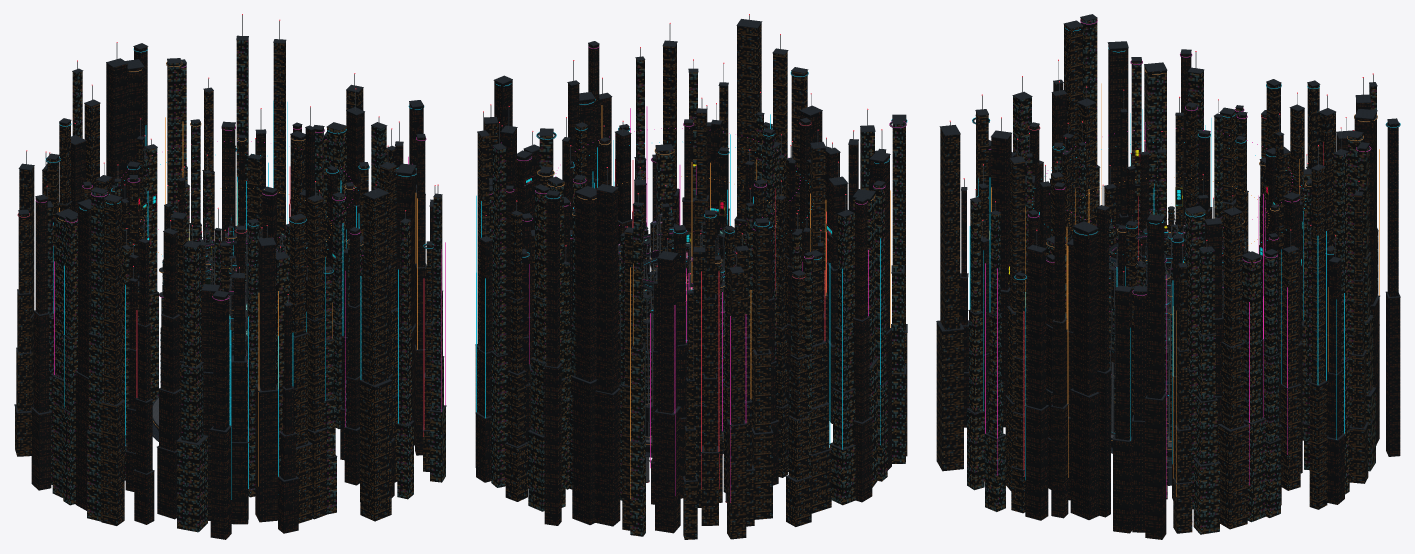
File: city_lite.glb
3 renders of one model, left to right at view 1: azimuth 30°, elevation 25°; view 2: azimuth 150°, elevation 25°; view 3: azimuth 270°, elevation 25°, orthographic. The views are drawn at different scales.
Parts seen in each view (by area): view 1: EXP_FAR_CITY, EXP_BUILDINGS; view 2: EXP_FAR_CITY, EXP_BUILDINGS, EXP_ROADS_INFRASTRUCTURE; view 3: EXP_FAR_CITY, EXP_BUILDINGS, EXP_ROADS_INFRASTRUCTURE.
Part boxes in pixels (x1=…): EXP_FAR_CITY: x1=14, y1=14, x2=446, y2=539; EXP_BUILDINGS: x1=159, y1=216, x2=285, y2=423; EXP_FAR_CITY: x1=475, y1=14, x2=907, y2=539; EXP_BUILDINGS: x1=618, y1=208, x2=746, y2=436; EXP_ROADS_INFRASTRUCTURE: x1=618, y1=231, x2=735, y2=435; EXP_FAR_CITY: x1=936, y1=14, x2=1400, y2=539; EXP_BUILDINGS: x1=1109, y1=206, x2=1246, y2=440; EXP_ROADS_INFRASTRUCTURE: x1=1109, y1=231, x2=1223, y2=432.
Size of the model in its own units: 678 by 694 by 696.
26 materials, 24 textured.
